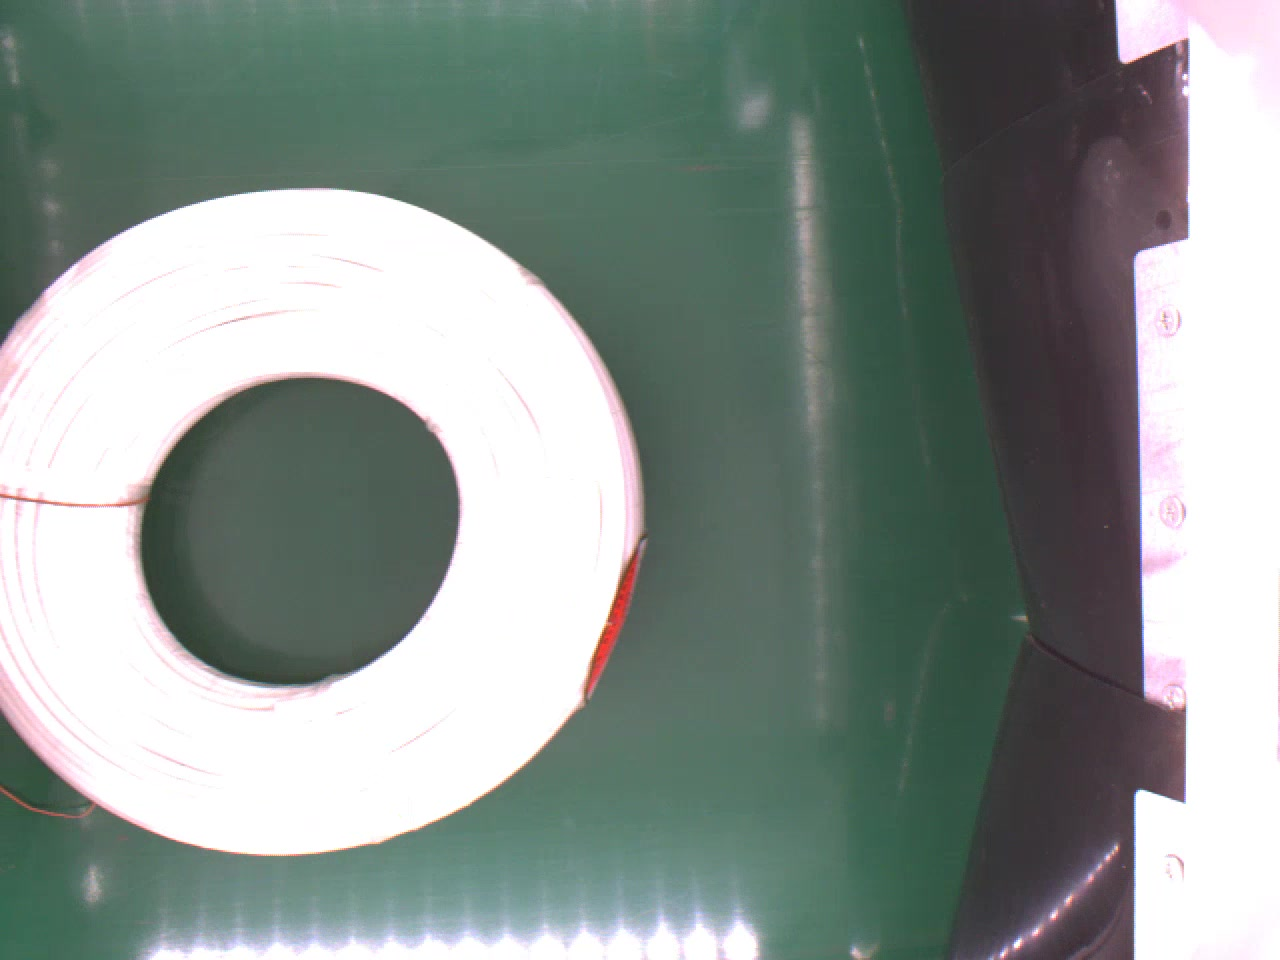white: (0, 189, 652, 854)
